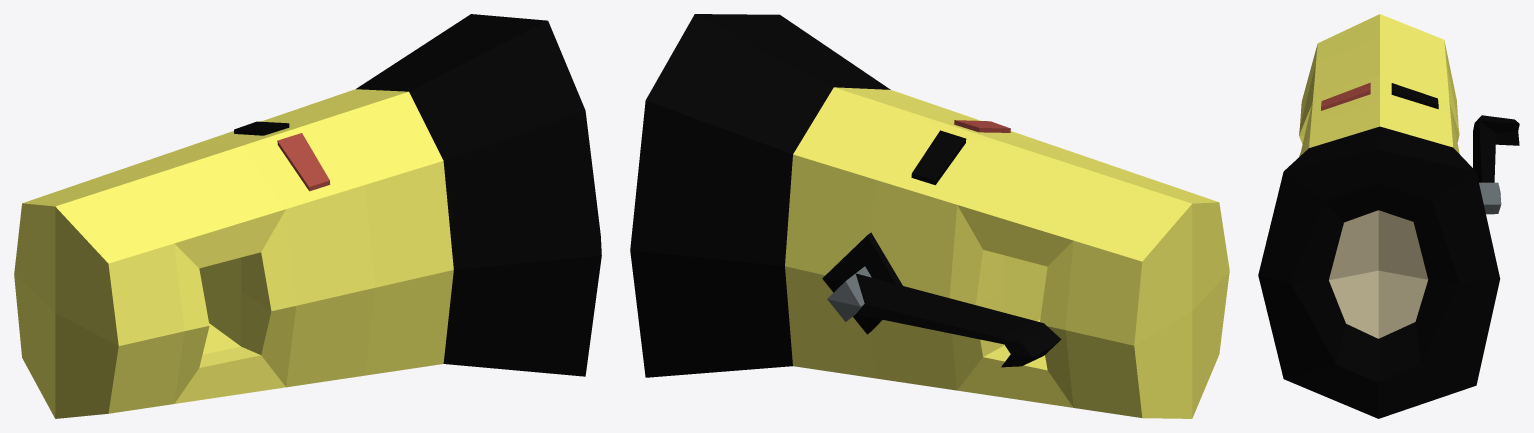
Rendered from linternaHispering.fbx.
The picture shows the model from 3 angles, left to right: view 1: azimuth 30°, elevation 25°; view 2: azimuth 150°, elevation 25°; view 3: azimuth 270°, elevation 25°; orthographic projection. The views are drawn at different scales.
Parts seen in each view (by area): view 1: Linterna; view 2: Linterna; view 3: Linterna.
Part boxes in pixels (x1,y1,x2,y2): Linterna: [14, 14, 601, 418]; Linterna: [630, 14, 1229, 418]; Linterna: [1258, 14, 1519, 418].
Bounding box in the file's own units: 364 × 244 × 215.
